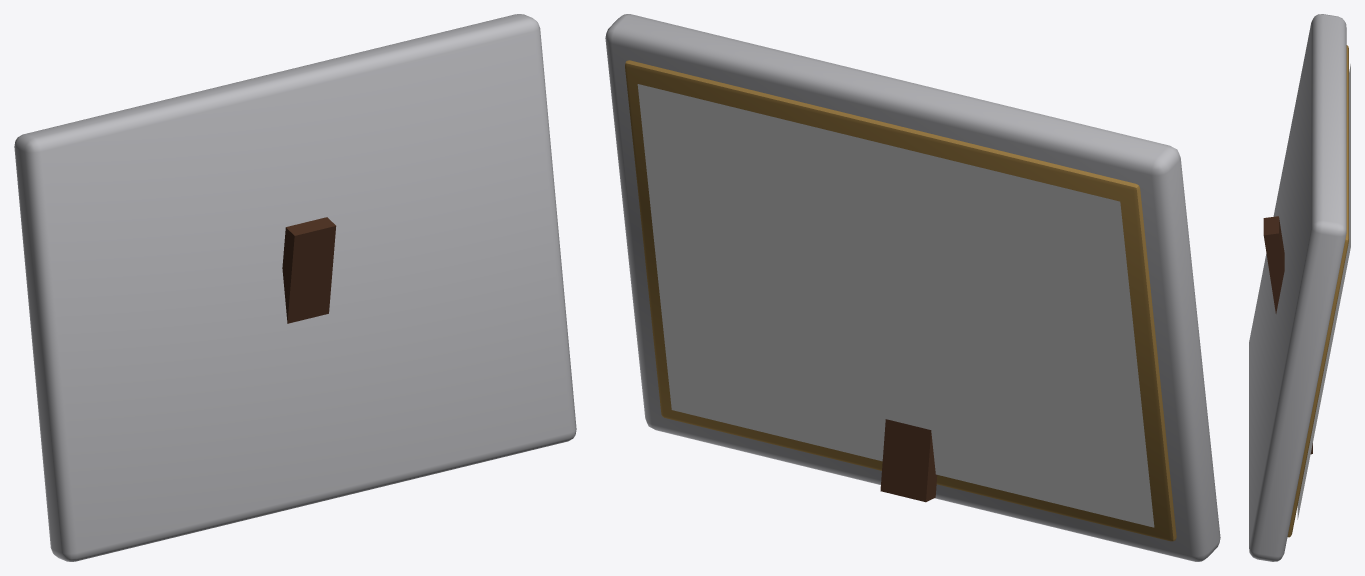
Rendered from Frame_Wide.fbx.
3 views of the same model, side by side, from view 1: azimuth 30°, elevation 25°; view 2: azimuth 150°, elevation 25°; view 3: azimuth 270°, elevation 25° (orthographic). The views are drawn at different scales.
Visible parts, largest first — view 1: Frame_Wide; view 2: PHOTO, Frame_Wide; view 3: Frame_Wide, PHOTO.
Boxes of the visible parts, x1,y1,x2,y2 form: Frame_Wide: [14, 14, 576, 561]; PHOTO: [637, 84, 1154, 527]; Frame_Wide: [605, 14, 1220, 561]; Frame_Wide: [1249, 14, 1348, 561]; PHOTO: [1297, 64, 1350, 519].
Size of the model in its own units: 0.198 by 0.1468 by 0.0398.
